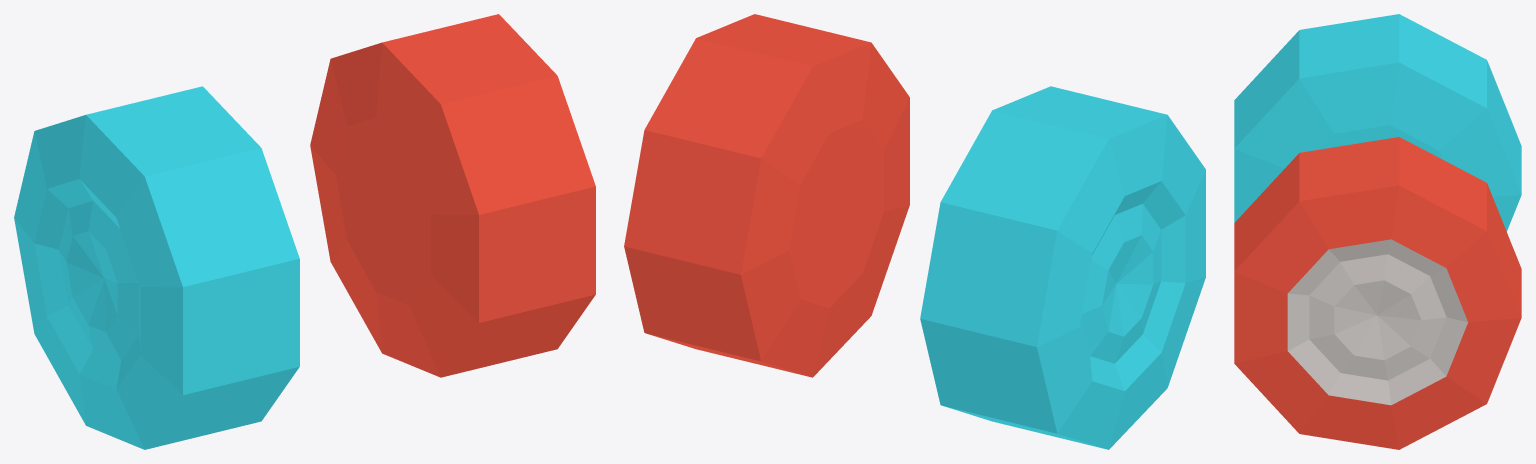
Rendered from plane-passenger-wheels_BR2.glb.
The picture shows the model from 3 angles, left to right: view 1: azimuth 30°, elevation 25°; view 2: azimuth 150°, elevation 25°; view 3: azimuth 270°, elevation 25°; orthographic projection. The views are drawn at different scales.
Visible parts, largest first — view 1: plane-passenger-wheels_BR2; view 2: plane-passenger-wheels_BR2; view 3: plane-passenger-wheels_BR2.
Part boxes in pixels (x1,y1,x2,y2): plane-passenger-wheels_BR2: (14, 14, 595, 449); plane-passenger-wheels_BR2: (624, 14, 1205, 449); plane-passenger-wheels_BR2: (1234, 14, 1521, 449).
Bounding box in the file's own units: 1.94 × 1.33 × 1.31.
Materials: 1 (1 with a texture image).
